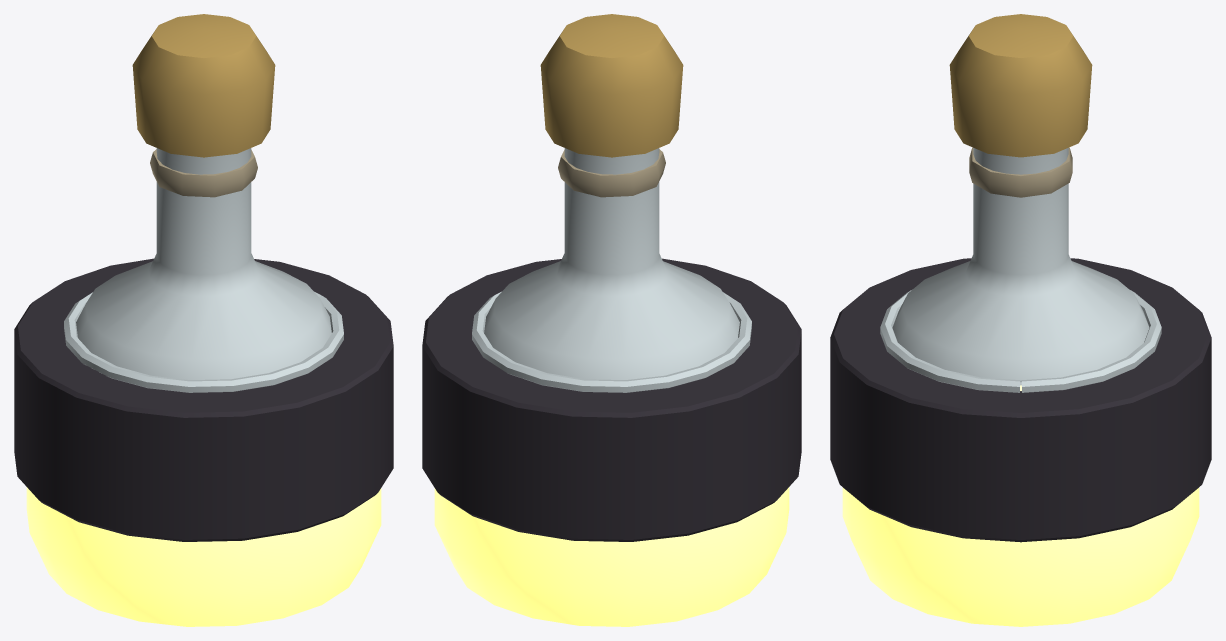
The model's file is stormward_potion.glb.
3 renders of one model, left to right at view 1: azimuth 30°, elevation 25°; view 2: azimuth 150°, elevation 25°; view 3: azimuth 270°, elevation 25°, orthographic.
Parts seen in each view (by area): view 1: stormward_potion; view 2: stormward_potion; view 3: stormward_potion.
Boxes of the visible parts, left/top/right/bottom form: stormward_potion: left=14, top=14, right=393, bottom=626; stormward_potion: left=422, top=14, right=801, bottom=626; stormward_potion: left=830, top=14, right=1211, bottom=626.
Bounding box in the file's own units: 0.0963 × 0.148 × 0.0963.
